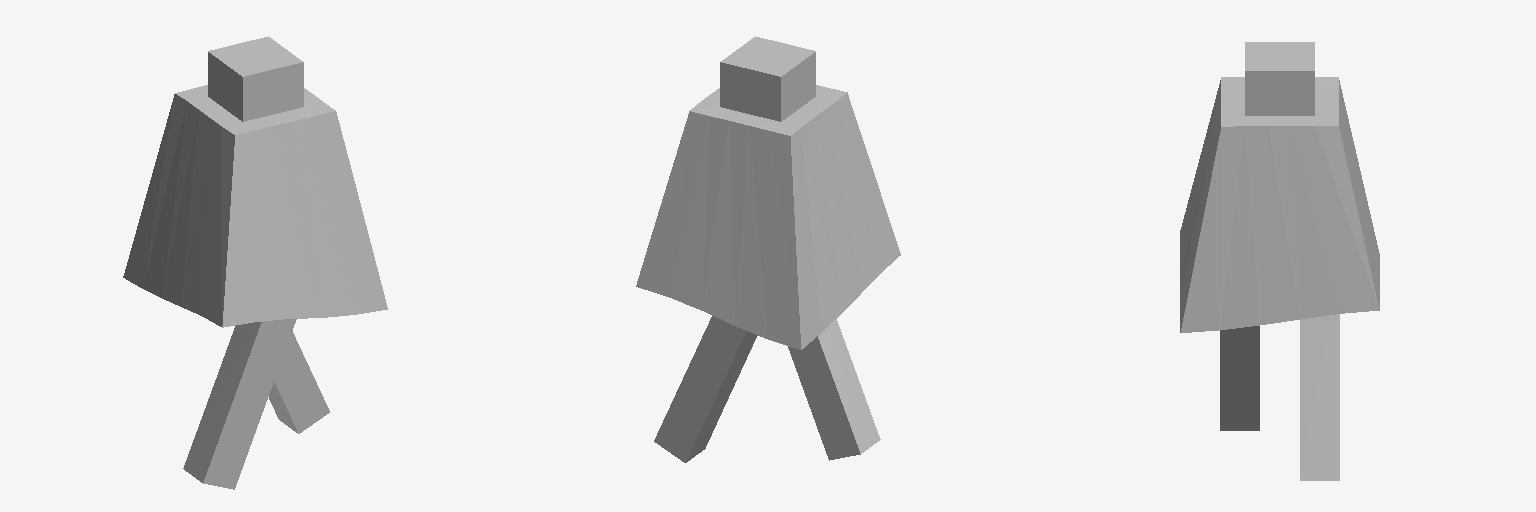
File: essai_000034.obj
3 views of the same model, side by side, from view 1: azimuth 30°, elevation 25°; view 2: azimuth 150°, elevation 25°; view 3: azimuth 270°, elevation 25° (orthographic).
Visible parts, largest first — view 1: Cube; view 2: Cube; view 3: Cube.
Part boxes in pixels (left/top/right/bottom): Cube: left=123, top=36, right=387, bottom=489; Cube: left=636, top=36, right=900, bottom=462; Cube: left=1180, top=42, right=1379, bottom=480.
Size of the model in its own units: 1.96 by 4.42 by 2.